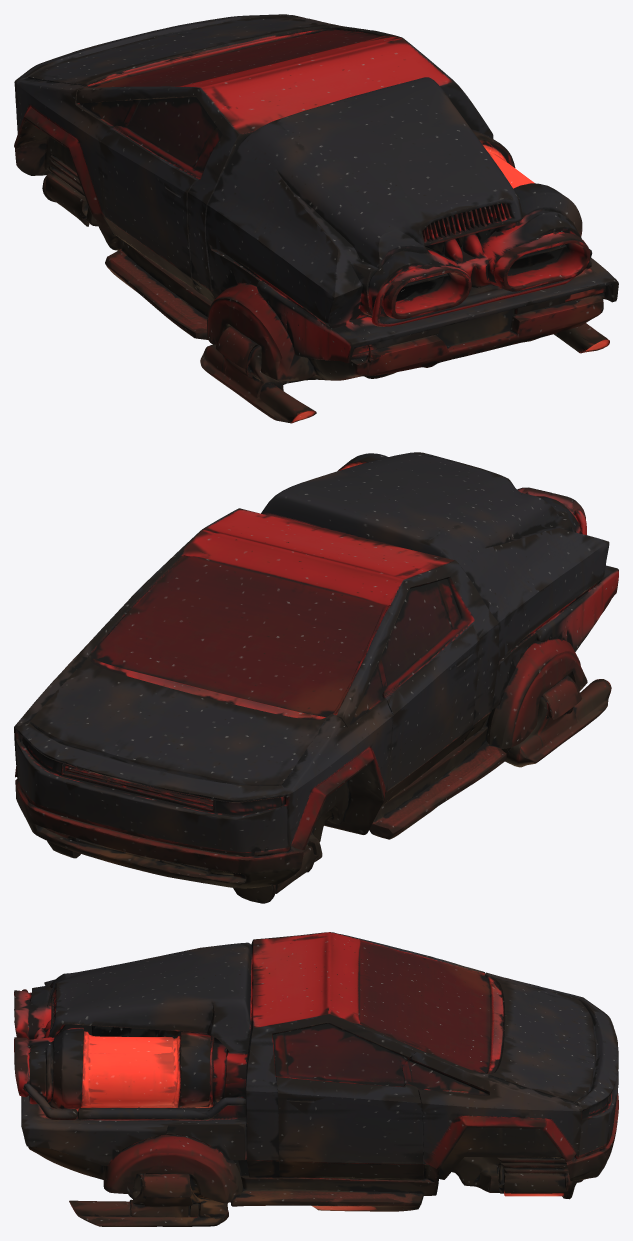
The model's file is sandboxer_remnant.glb.
The picture shows the model from 3 angles, top to bottom: view 1: azimuth 30°, elevation 25°; view 2: azimuth 150°, elevation 25°; view 3: azimuth 270°, elevation 25°; orthographic projection. The views are drawn at different scales.
Visible parts, largest first — view 1: model; view 2: model; view 3: model.
Part boxes in pixels (x1=…): model: x1=14, y1=14, x2=618, y2=423; model: x1=14, y1=452, x2=618, y2=903; model: x1=14, y1=932, x2=618, y2=1226.
Bounding box in the file's own units: 2.7 × 1.75 × 4.96.
Materials: 1 (1 with a texture image).
